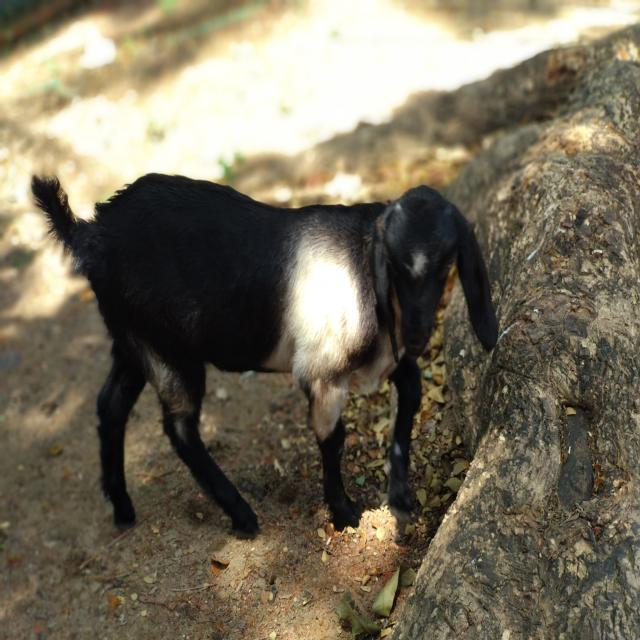Goat: (30, 170, 499, 538)
